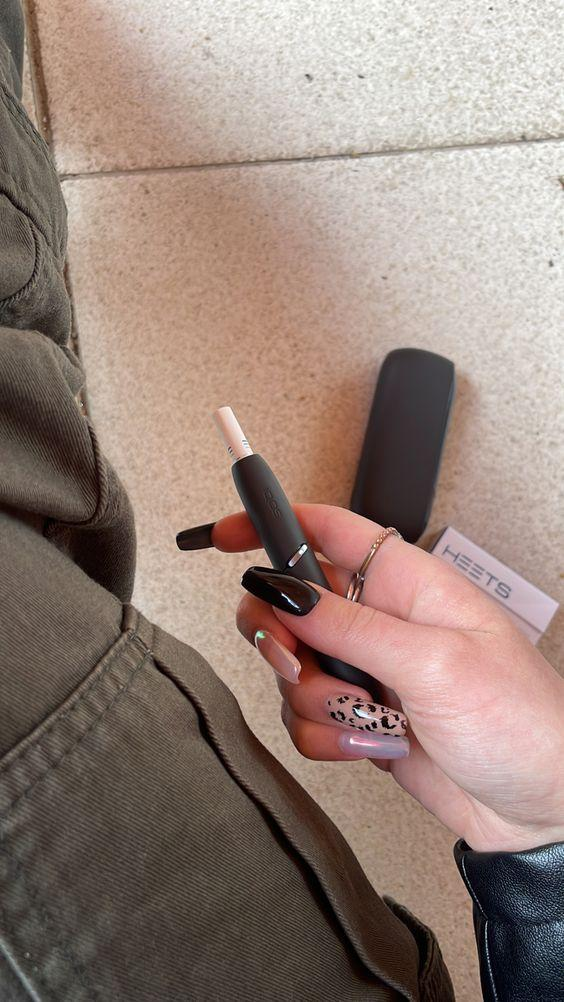iqos: (211, 405, 387, 702)
